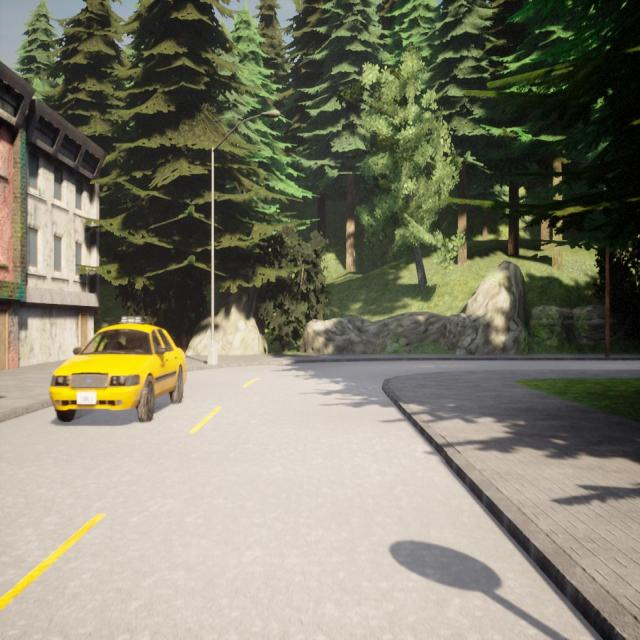Vehicle: (49, 324, 184, 421)
